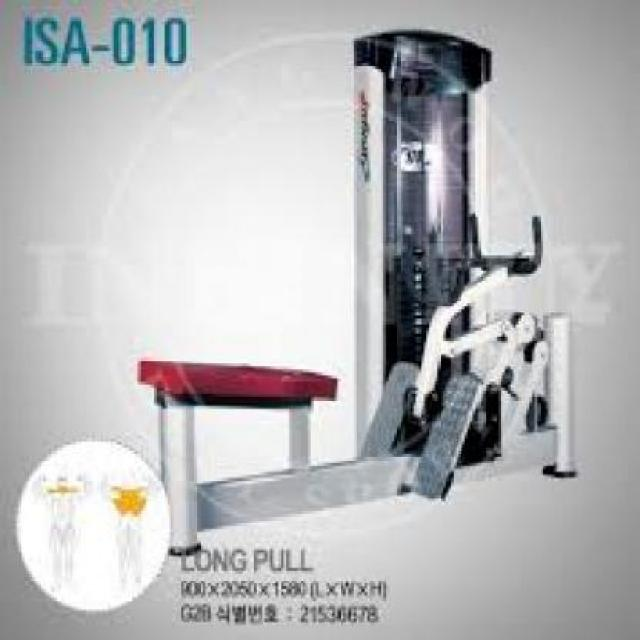Seated Cable Rows: (130, 25, 584, 560)
